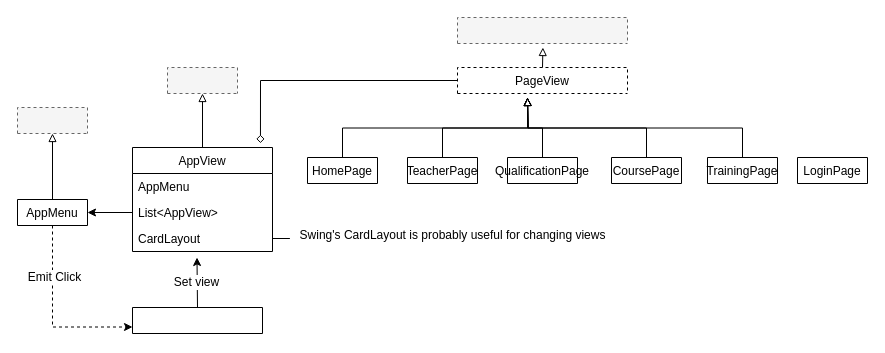
This 885x353 diagram has some shape labels left out. The centre of each missing label's shape, as x and y in pixels:
AppController: point 197,320
JFrame: point 202,80
JMenu: point 52,120
JPanel: point 542,30
